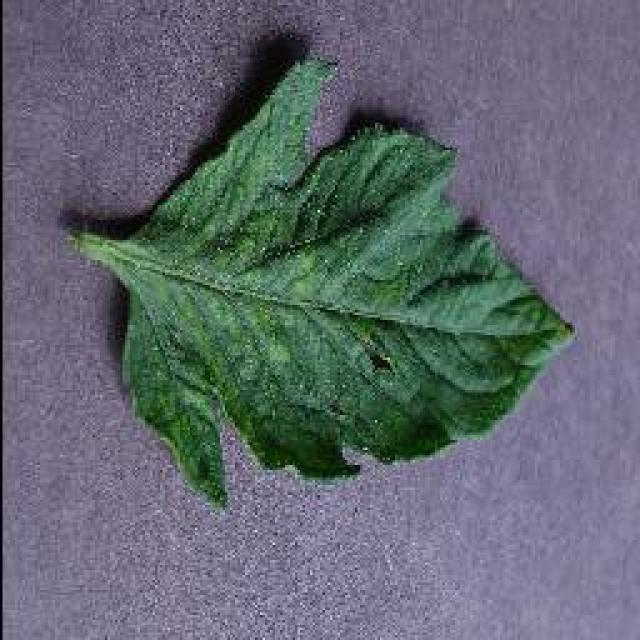Tomato___Tomato_mosaic_virus: (72, 60, 570, 500)
